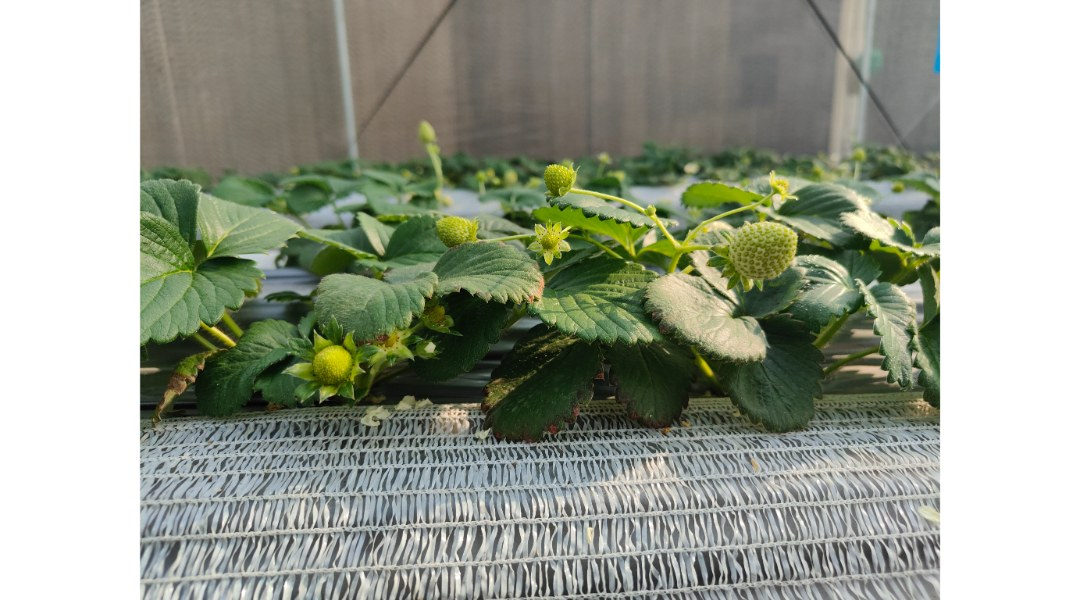berry: (729, 209, 806, 306), (293, 324, 362, 410), (427, 208, 484, 273), (525, 211, 578, 269), (539, 163, 590, 201), (760, 171, 808, 198)
strain: (577, 182, 672, 247), (692, 196, 767, 236), (476, 234, 537, 246)
